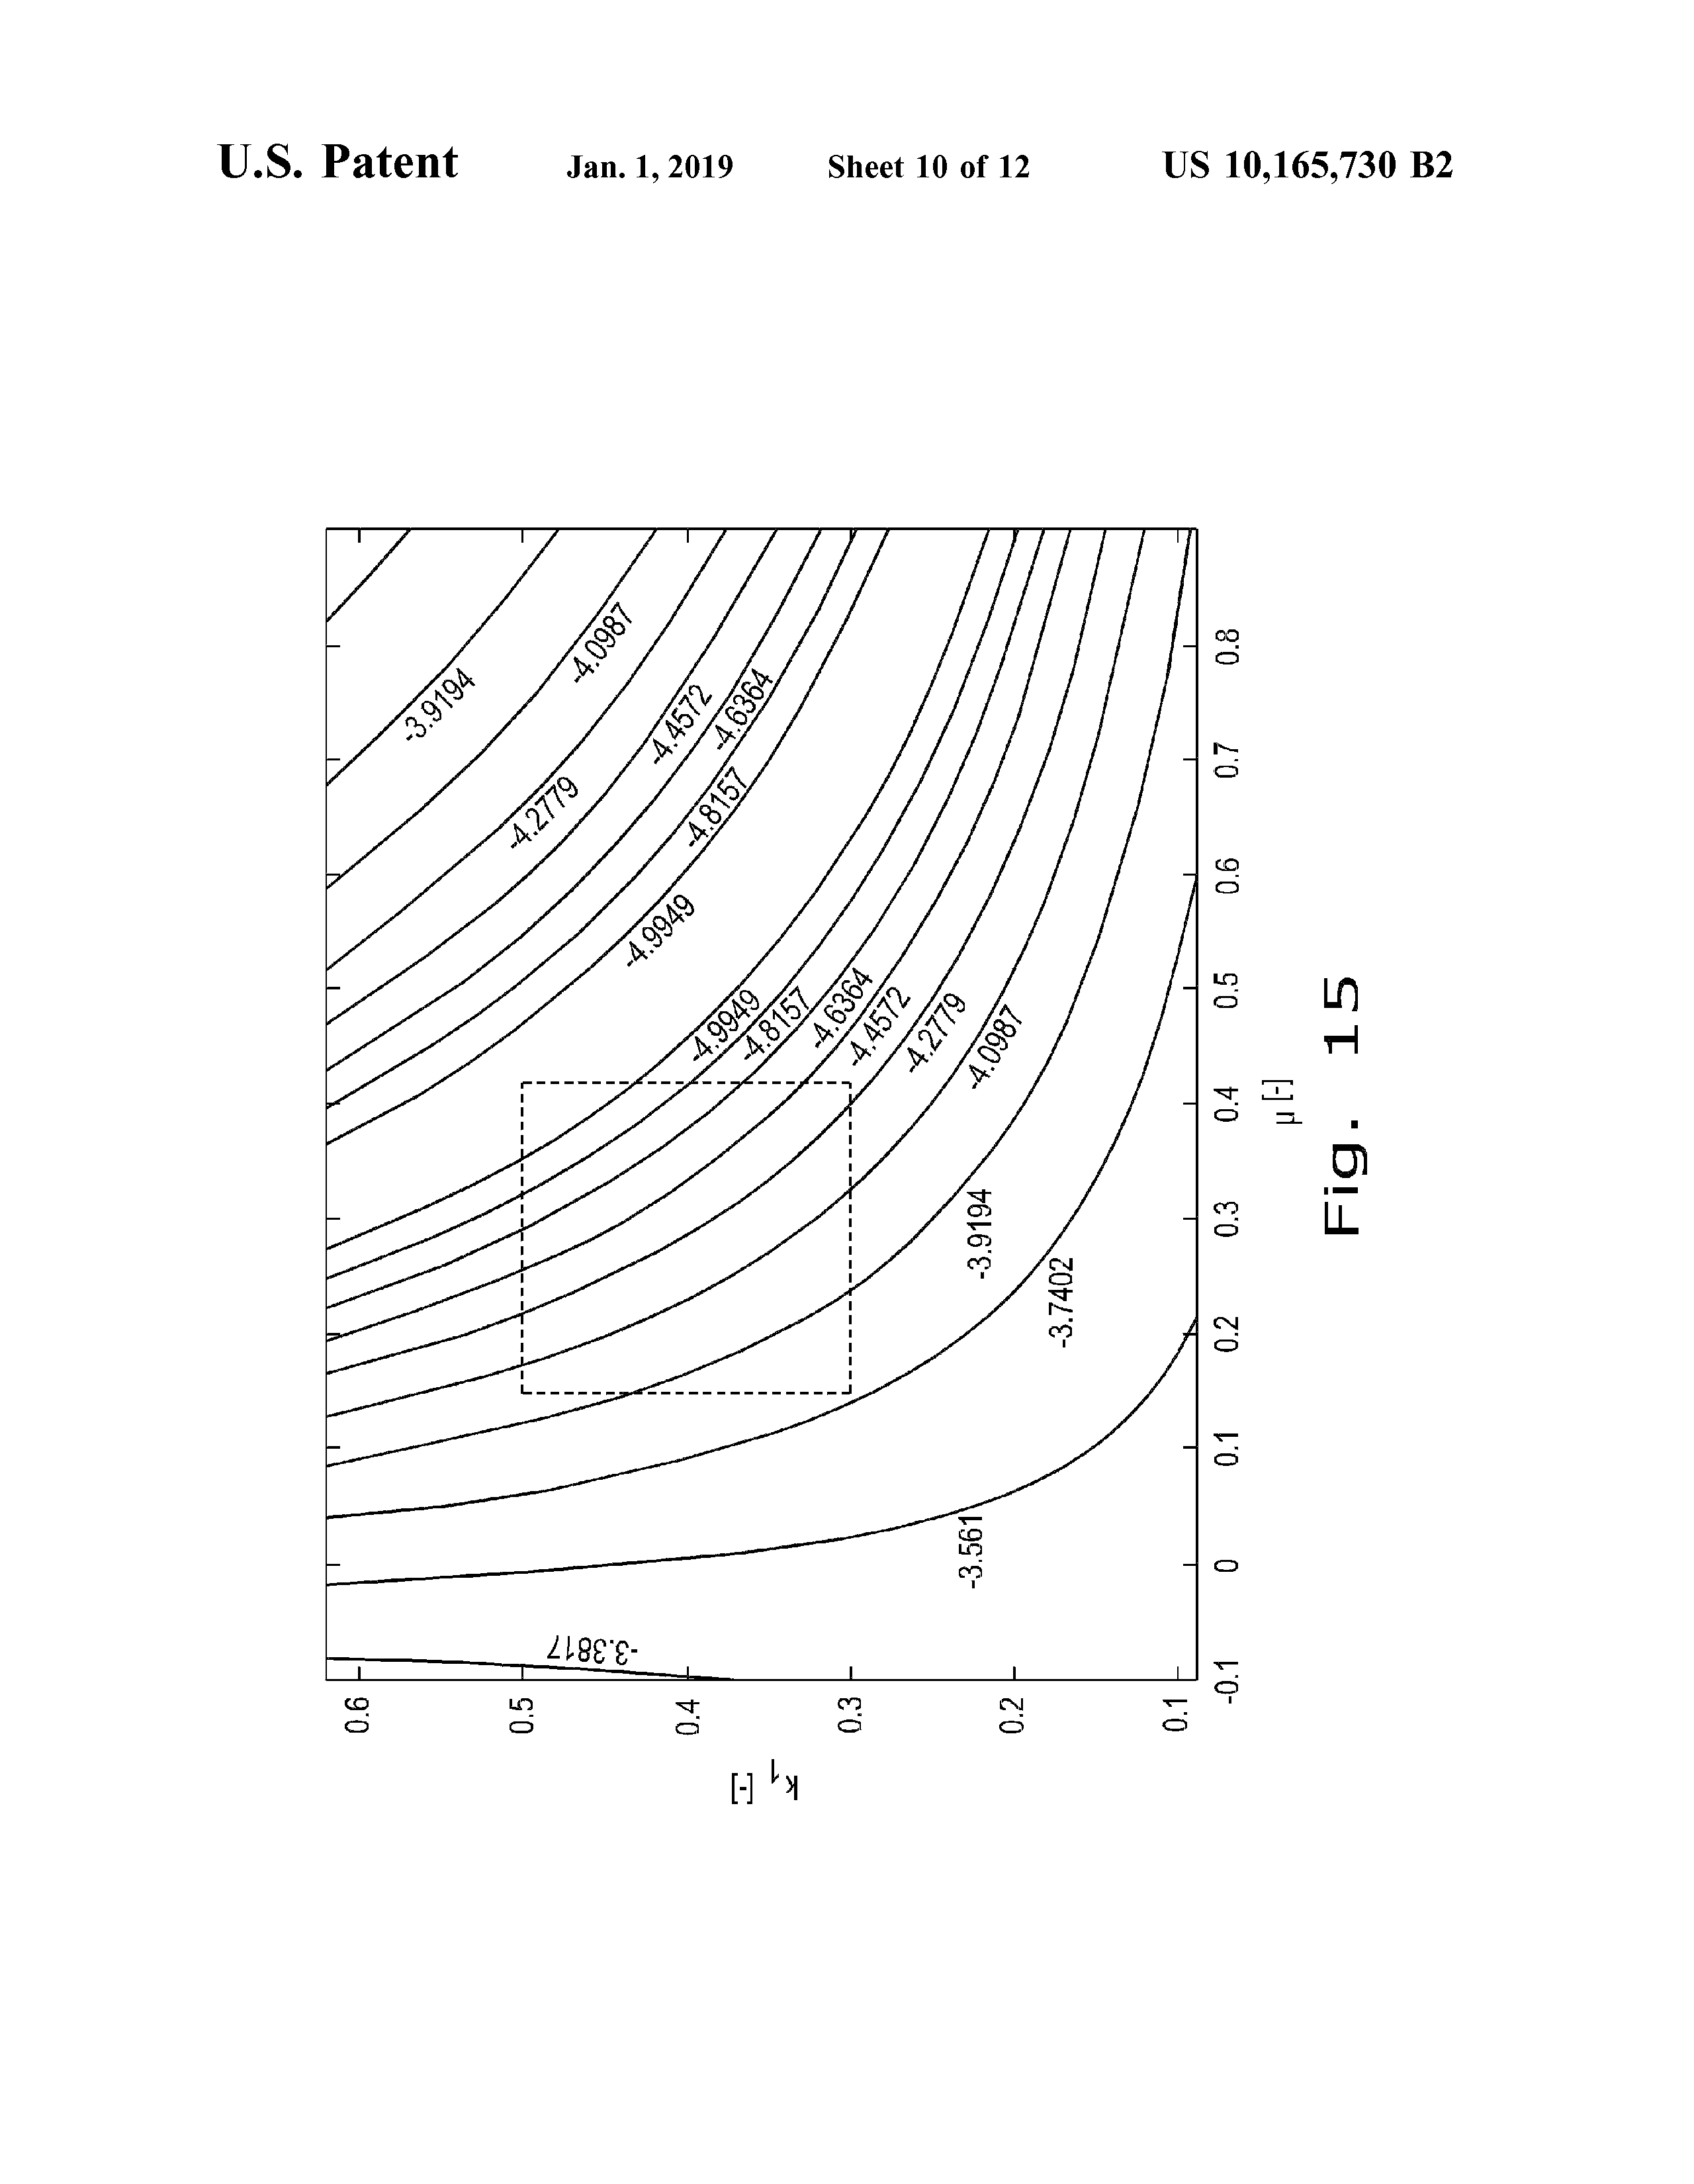patent image: (298, 509, 1447, 1893)
